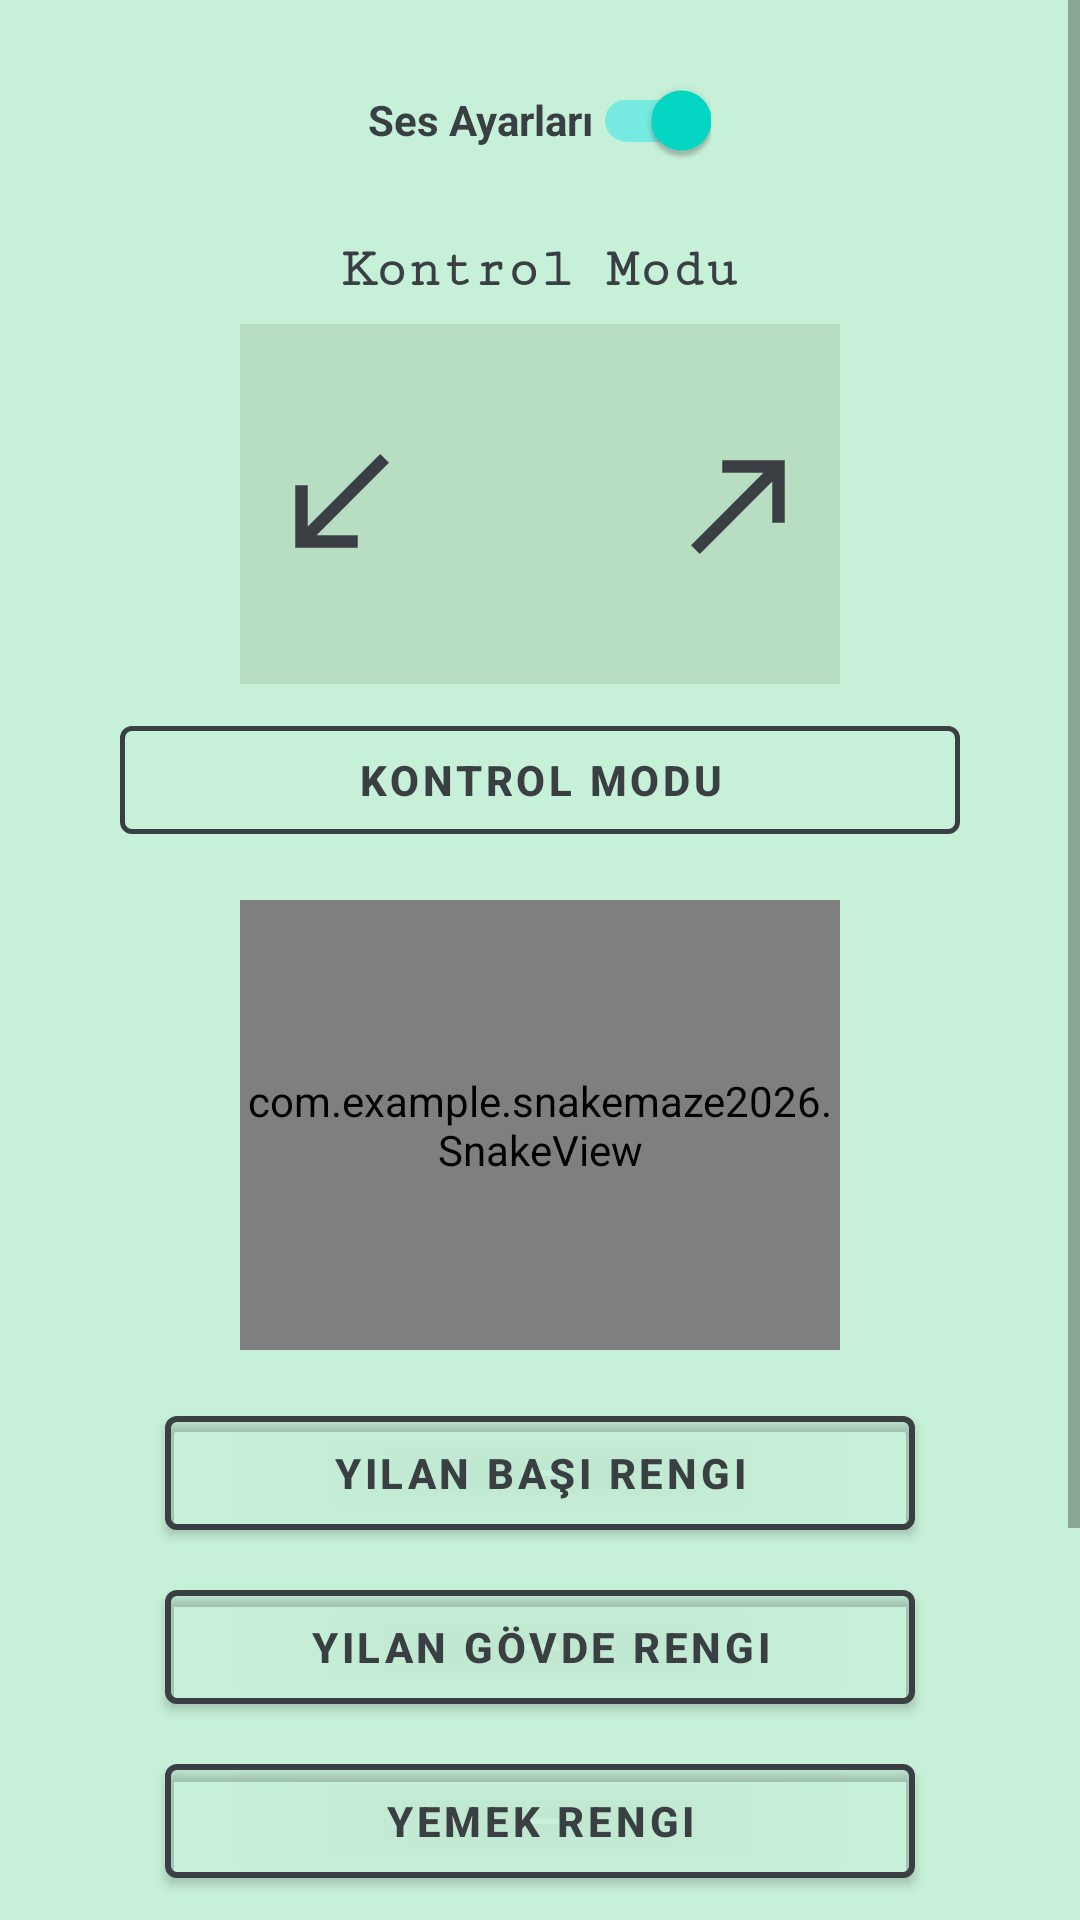

Point at icon controls on the screen. Image size 1080×1920, points as [x,y].
arrow left down: [342,501]
arrow right up: [738,507]
